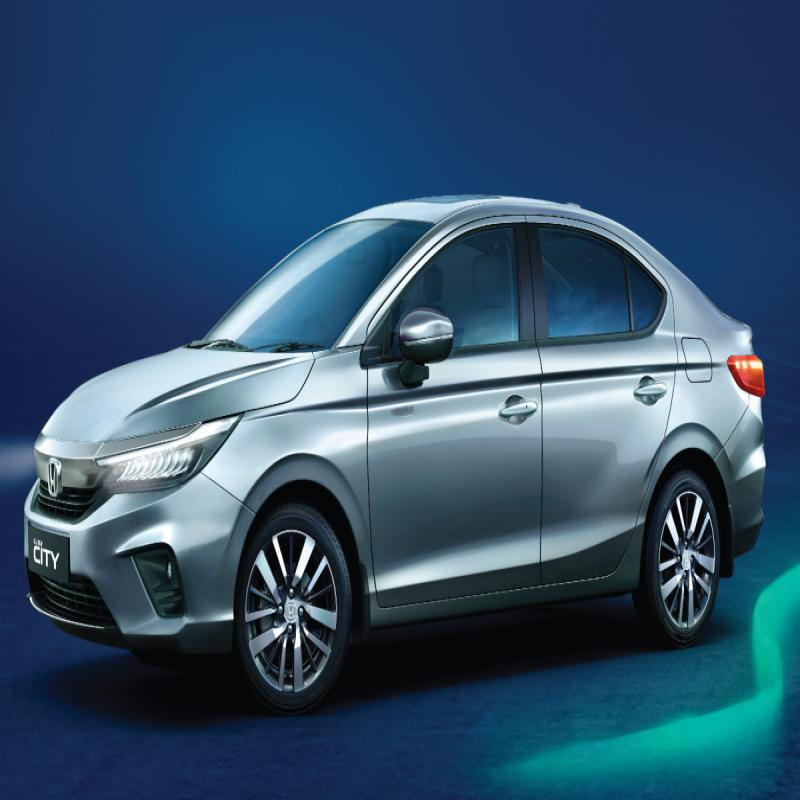car: (13, 168, 782, 717)
